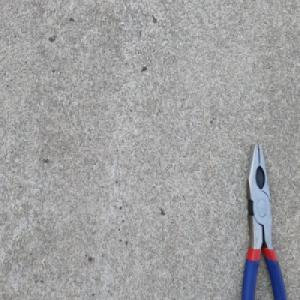Pliers: (240, 139, 289, 300)
